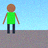person: (3, 4, 19, 33)
